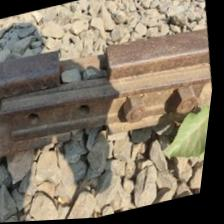person: (41, 19, 134, 107), (62, 110, 127, 155)
